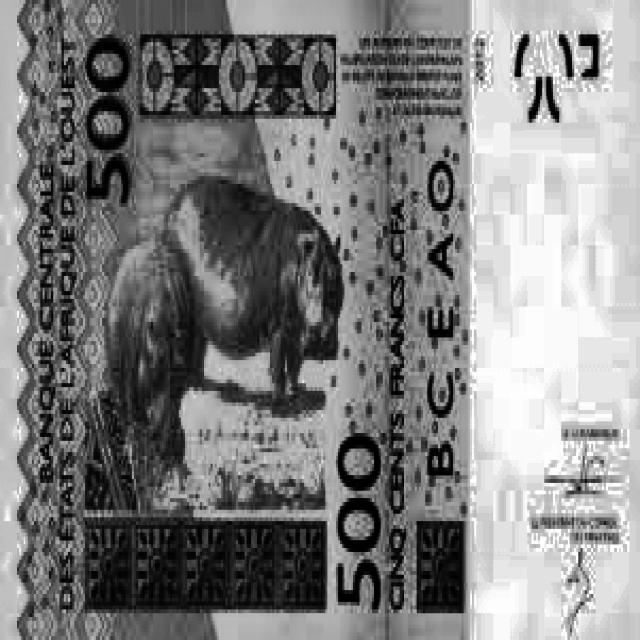teemeer: (22, 0, 640, 640)
